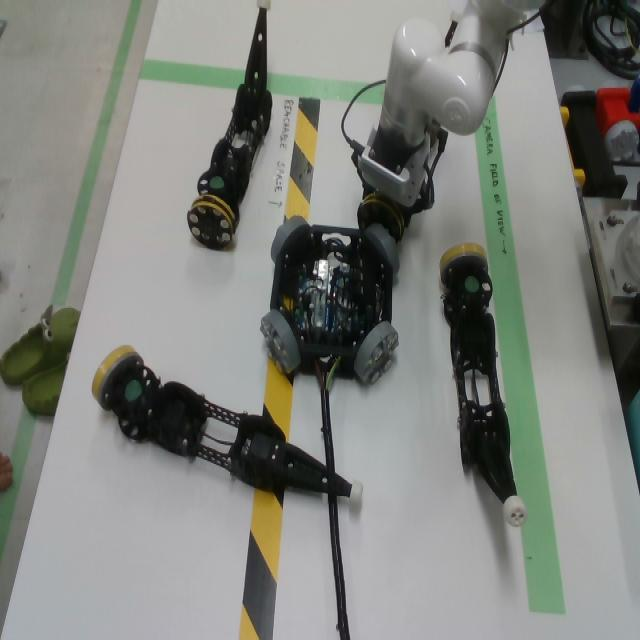body: (270, 224, 392, 380)
body_connector: (354, 321, 400, 385), (259, 309, 301, 375), (364, 224, 401, 275), (271, 216, 309, 263)
gripper: (351, 135, 435, 228)
leg: (92, 345, 363, 507), (439, 241, 528, 528), (186, 0, 272, 248)
leg_connector: (90, 345, 143, 411), (187, 195, 235, 248), (358, 192, 404, 244), (440, 243, 489, 284)
leg_marker: (126, 381, 141, 400), (210, 176, 224, 188), (466, 276, 478, 289)
